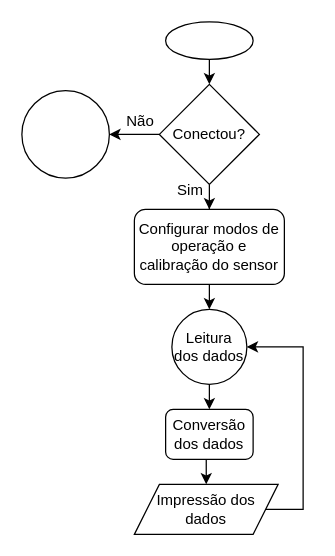
This 335x556 diagram has some shape labels left out. The box of each missing label's shape, as (x1, y1, x2, y2) in pixels:
Início: (164, 21, 253, 59)
Programa encerrado: (21, 89, 109, 178)
